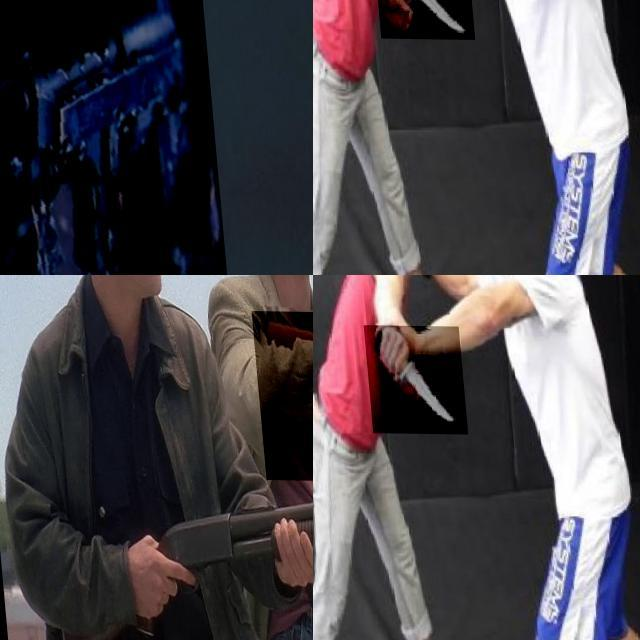-: (359, 325, 462, 434), (368, 0, 469, 47)
gun-knife-thesis - v11 Yolov5 augmented: (0, 0, 231, 275), (32, 470, 313, 640)
